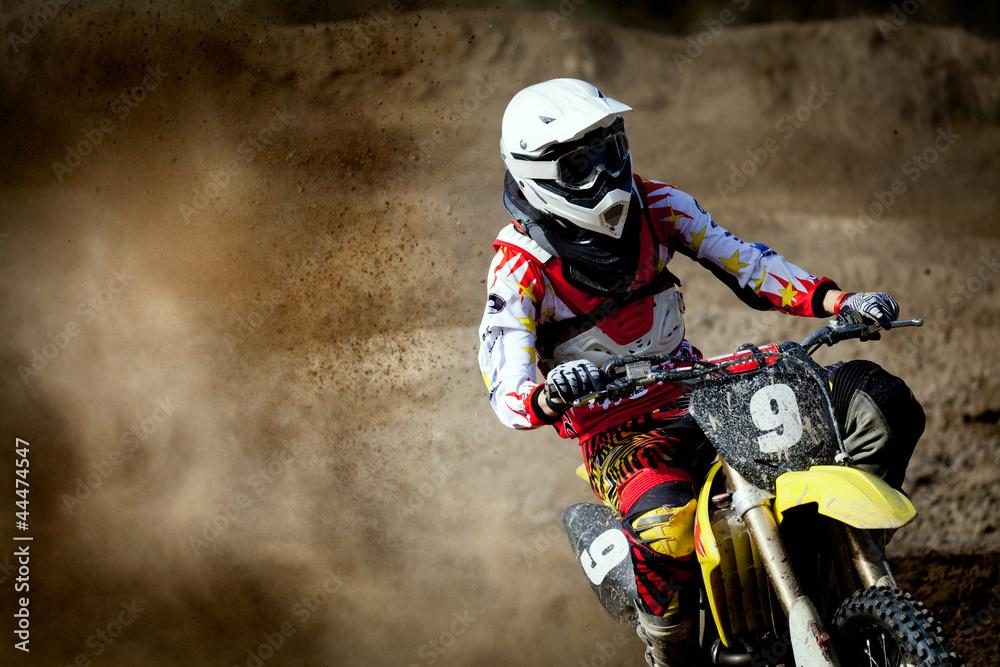helmet: (499, 76, 635, 241)
